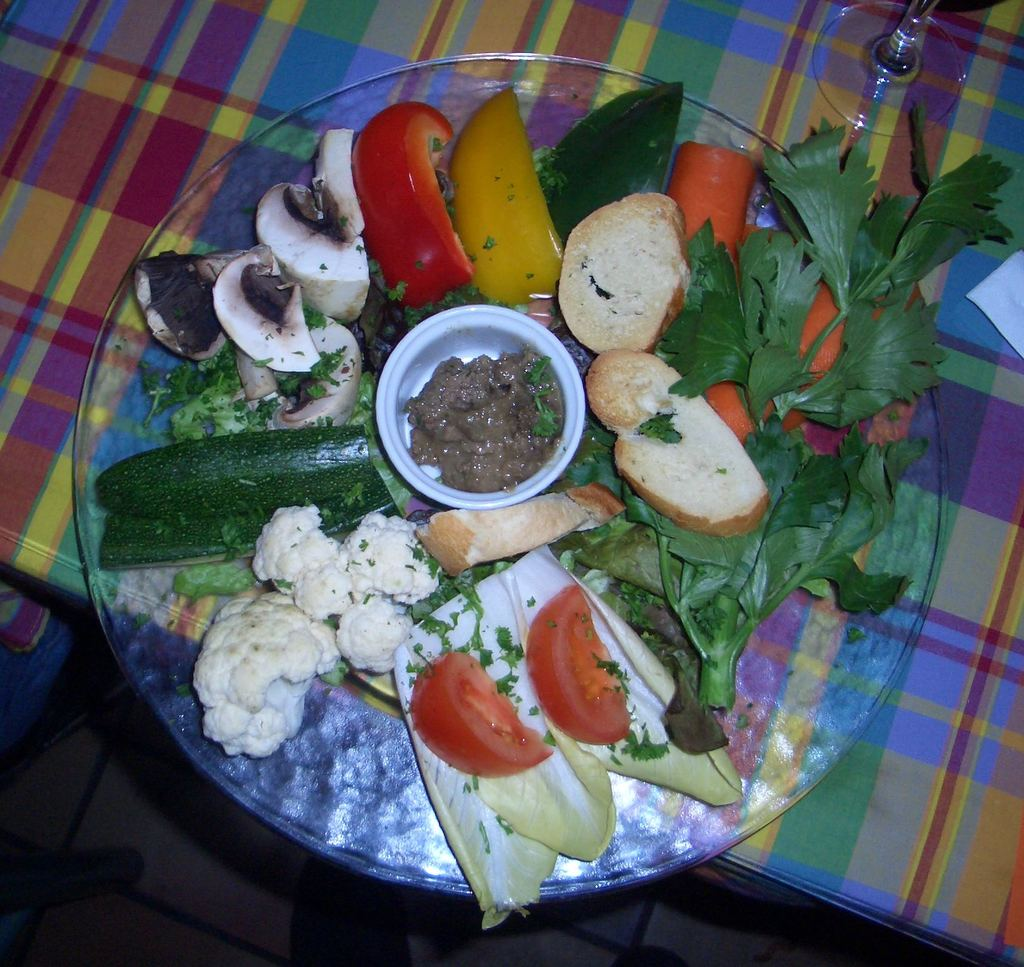salad: (91, 94, 1014, 938)
